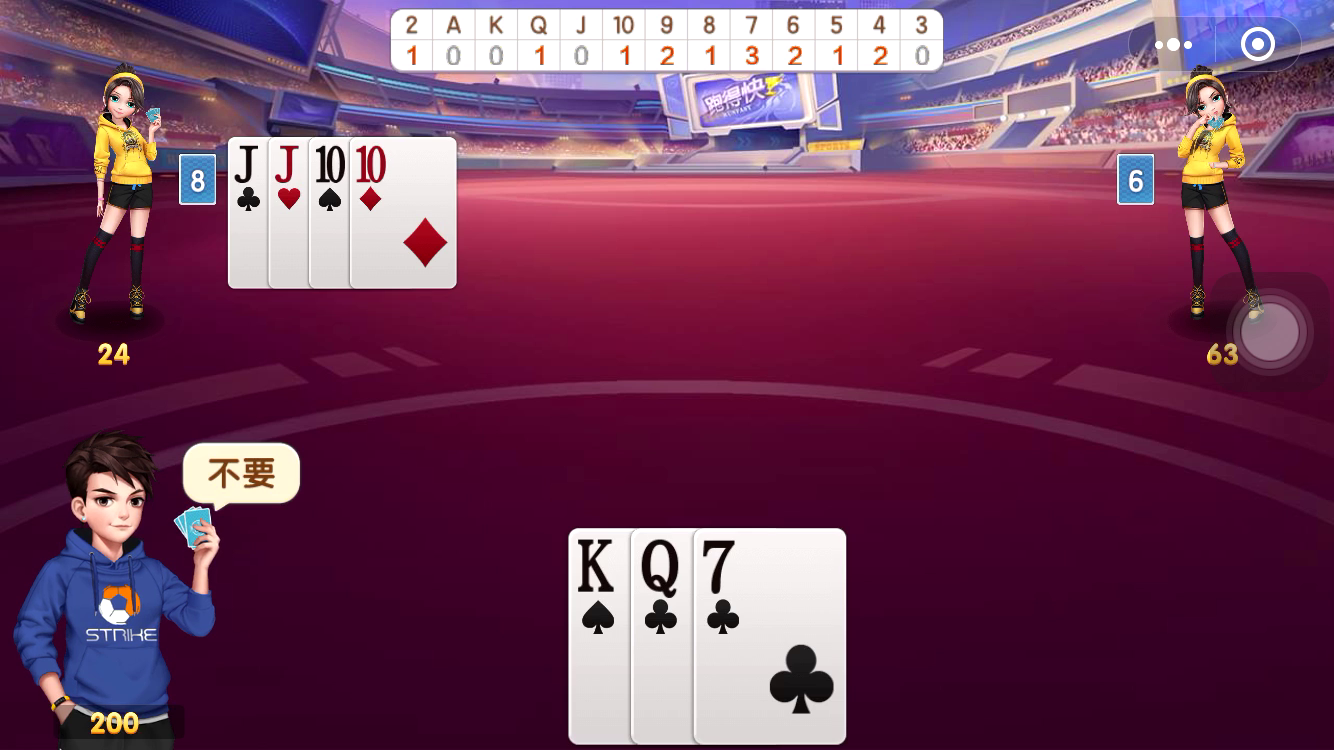J: (227, 142, 268, 189), (269, 140, 305, 185)
K: (576, 536, 620, 602)
Q: (638, 536, 682, 602)
seven: (696, 536, 744, 603)
ten: (309, 142, 347, 188), (353, 143, 389, 184)
